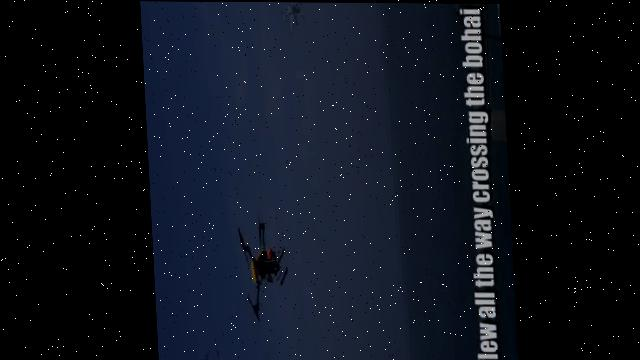drone: (231, 216, 289, 319), (186, 346, 226, 360)
